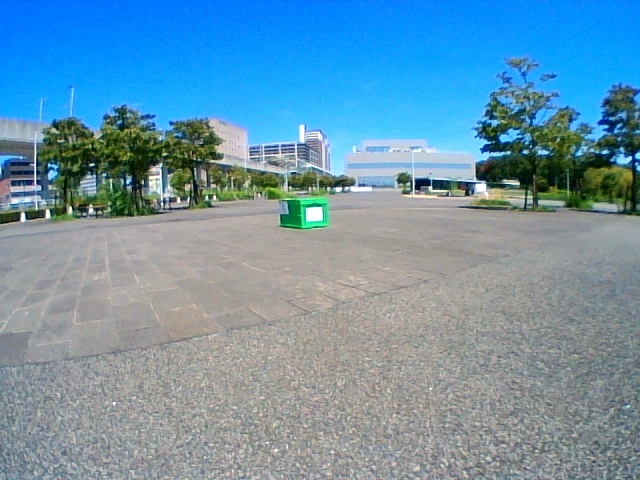green_box: (279, 199, 326, 227)
tag: (281, 202, 288, 212)
